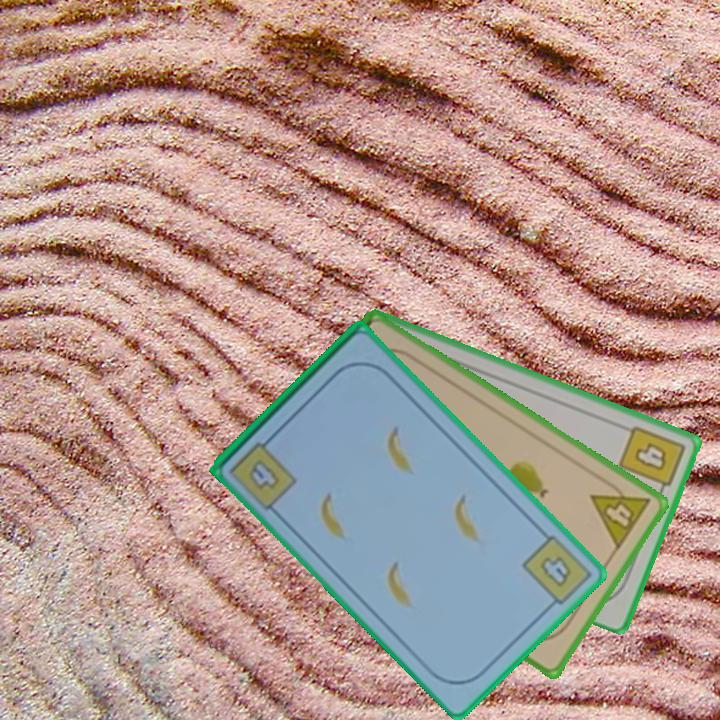4b: (518, 530, 591, 614), (615, 422, 688, 499), (245, 455, 284, 493)
4p: (587, 473, 654, 553)
